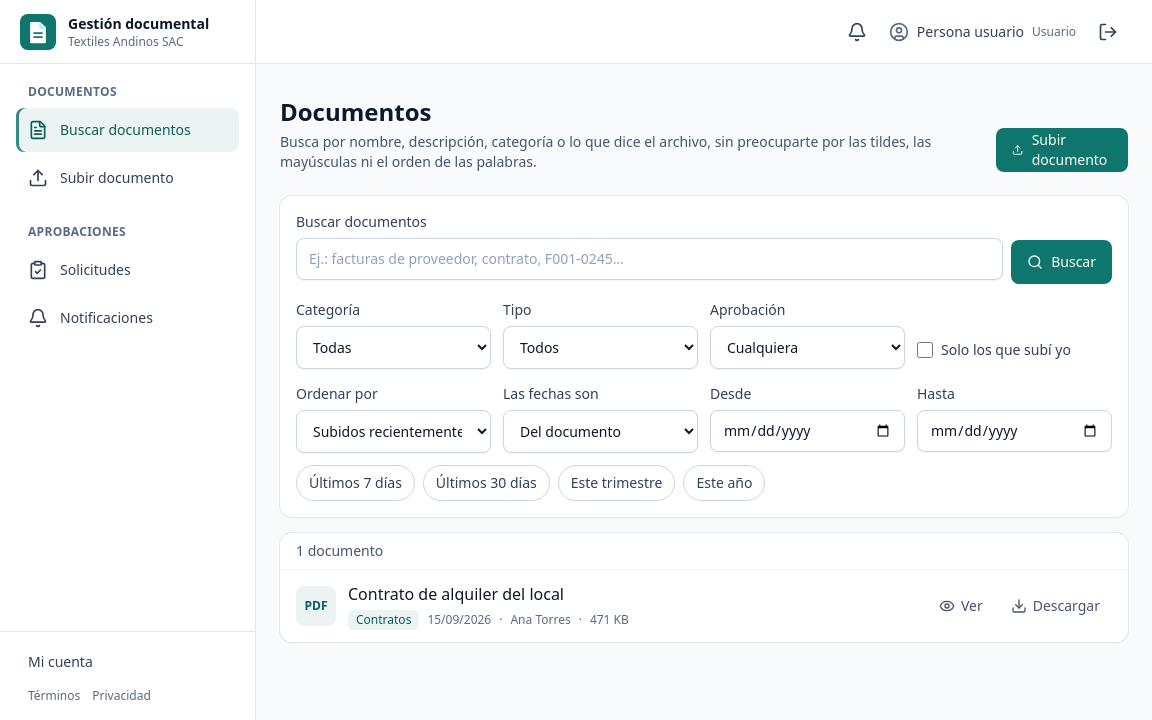
Buscador de documentos (D42) › sugiere mientras se escribe con una sola petición tras la pausa, y no busca hasta confirmar (D36)
Type "contr" into the dropdown labelled "Buscar documentos" at (650, 259), box left=296, top=238, right=1003, bottom=280
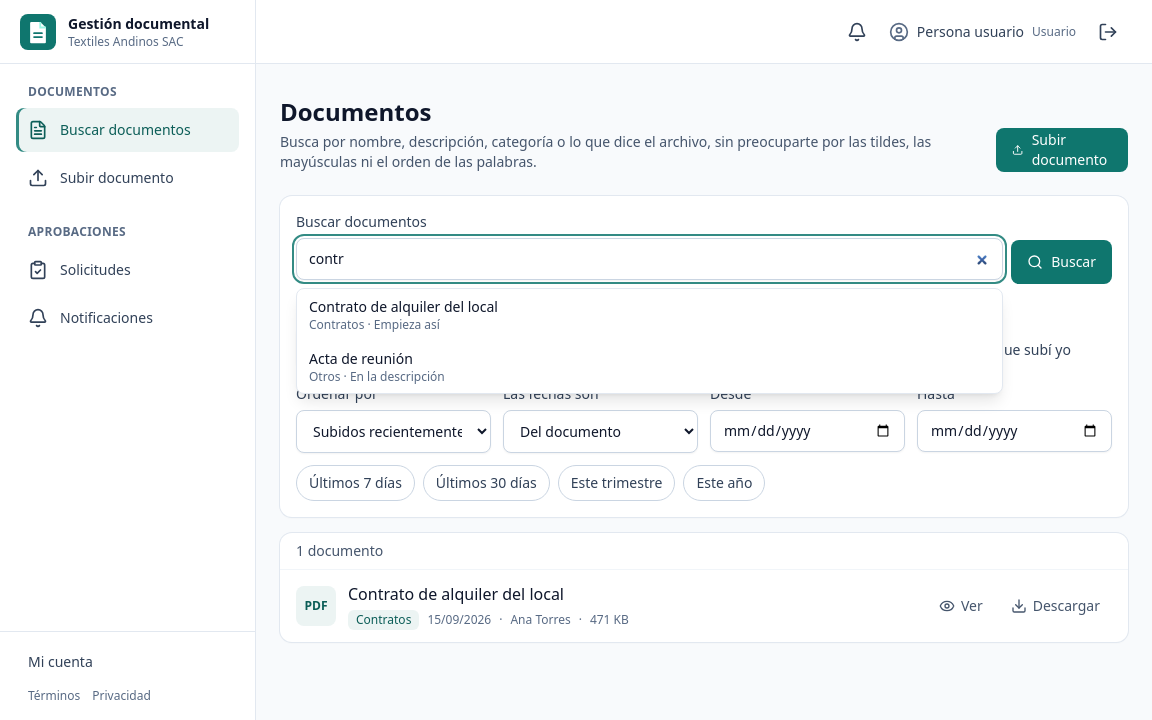
Now the option "Contrato de alquiler del local Contratos · Empieza así" is shown, box left=309, top=297, right=498, bottom=333
Now the dropdown labelled "Buscar documentos" is expanded, box left=296, top=238, right=1003, bottom=280
